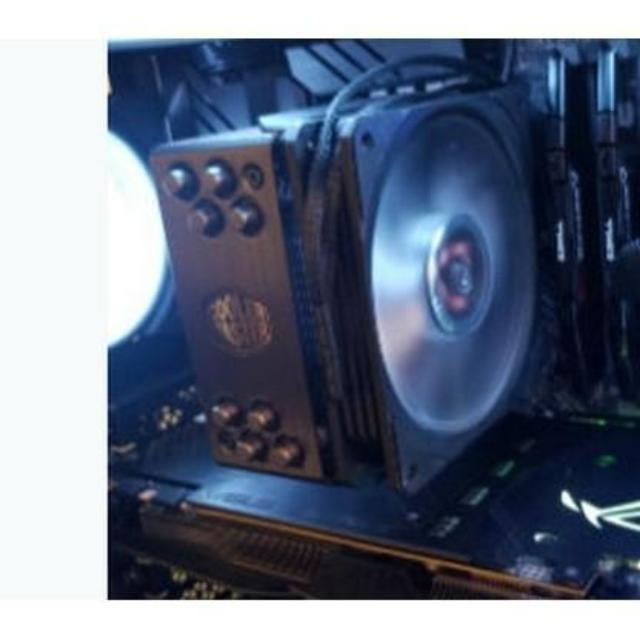CPU_Fan: (146, 79, 544, 490)
